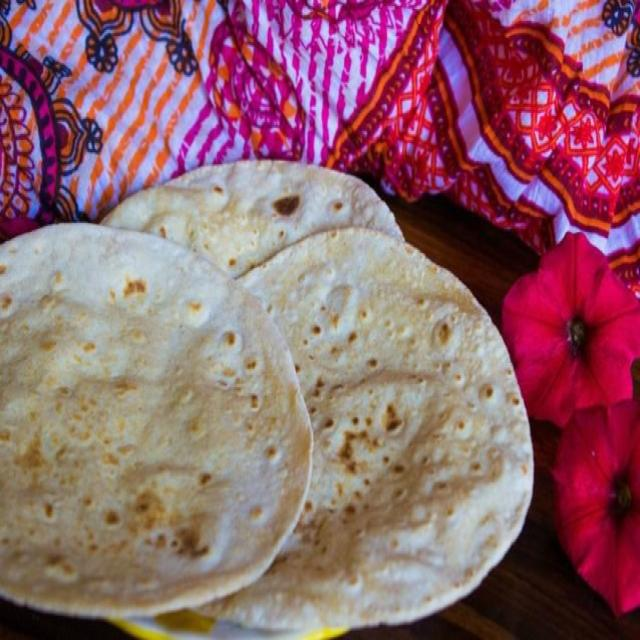CHAPATHI: (0, 163, 538, 638)
